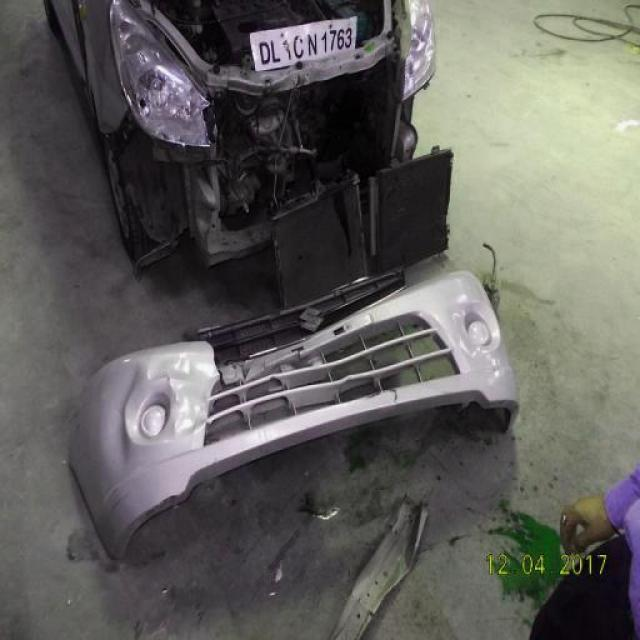Car-Damage: (96, 37, 446, 263)
